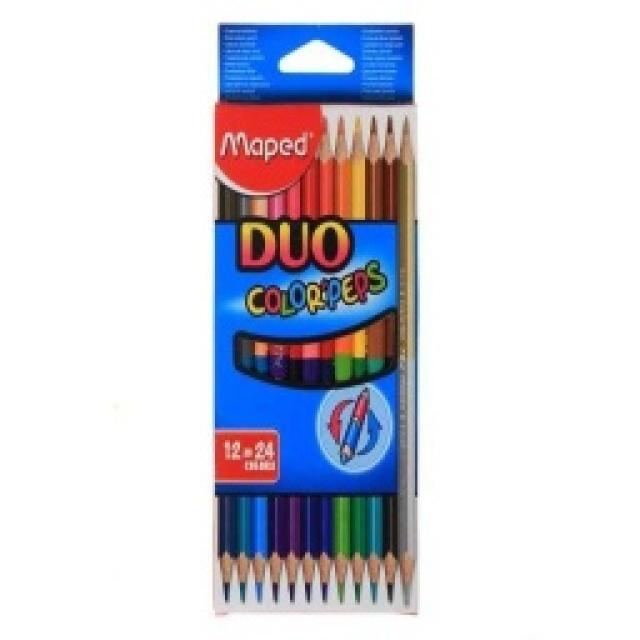pencil: (208, 20, 420, 615)
